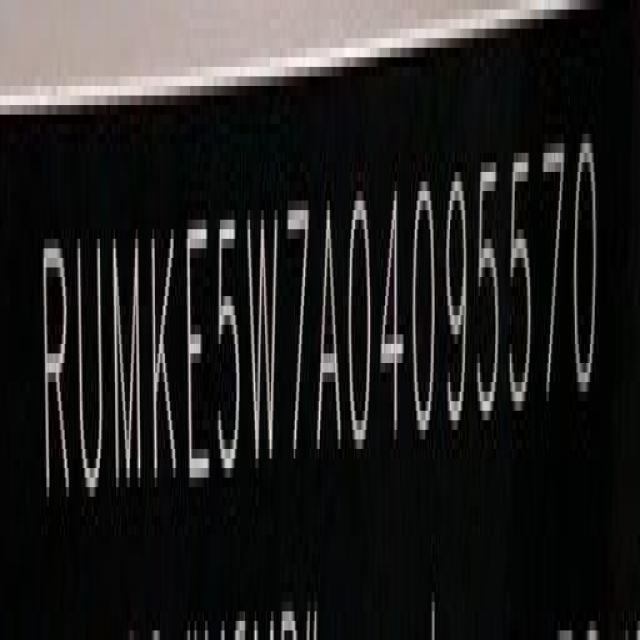0: (413, 179, 439, 447), (574, 129, 598, 410), (349, 194, 374, 455)
4: (383, 179, 407, 452)
5: (215, 207, 241, 483), (510, 153, 534, 425), (477, 155, 501, 425)
7: (542, 134, 568, 416), (288, 197, 313, 476)
9: (446, 172, 472, 436)
A: (317, 195, 343, 467)
E: (186, 212, 212, 496)
K: (148, 216, 178, 498)
M: (110, 230, 145, 502)
R: (44, 240, 72, 512)
U: (77, 233, 107, 504)
W: (246, 202, 281, 481)
